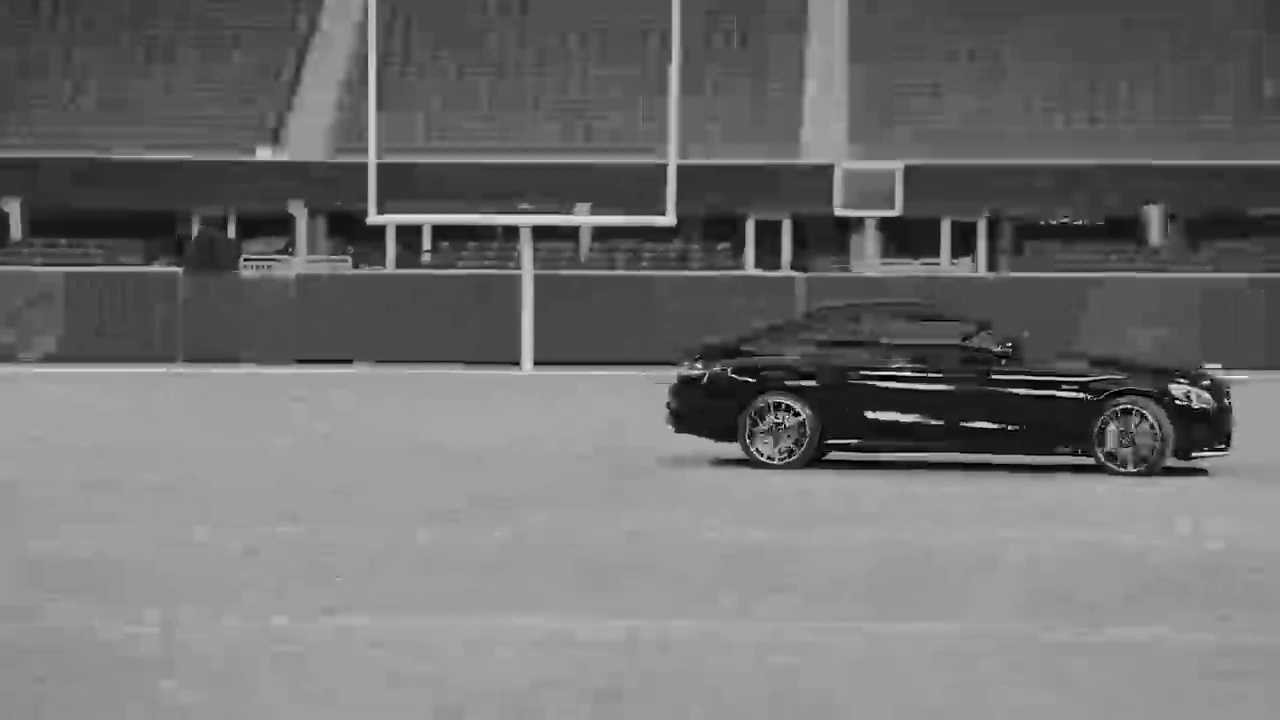car: (652, 300, 1244, 485)
